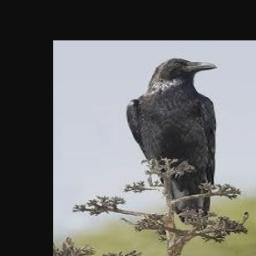Crow: (127, 58, 217, 231)
